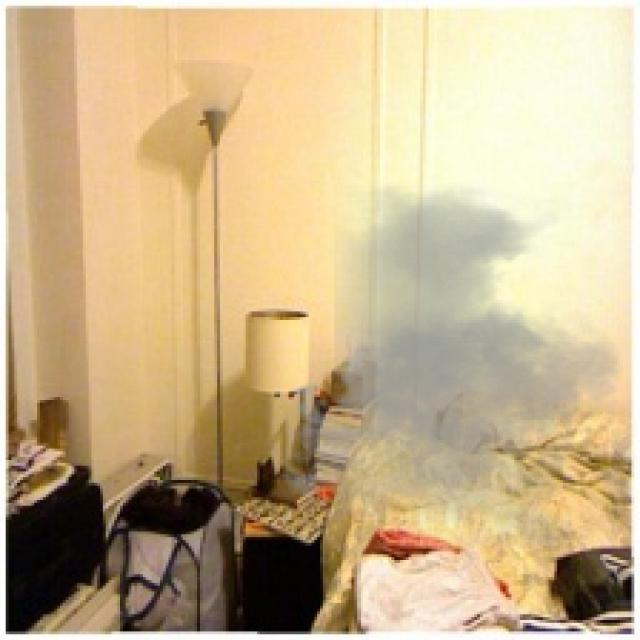Smoke: (268, 182, 638, 548)
